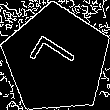L_SE: (28, 33, 85, 86)
